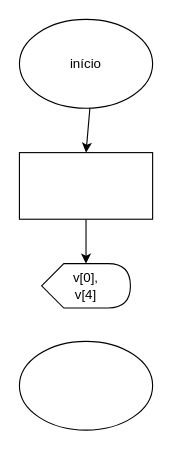
The diagram is 172 pixels wide and 450 high, and some of its shapes have lost their labels. Each missing label, with the centre of its shape:
"fim" belongs at point 85,385.
"v[] <- {45,-89,32,-12,33,}" belongs at point 85,185.
